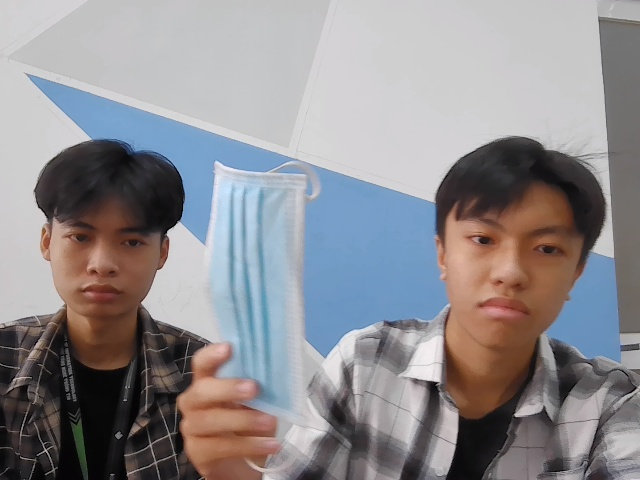human: (435, 135, 605, 350), (37, 137, 185, 315)
mask: (206, 160, 326, 431)
